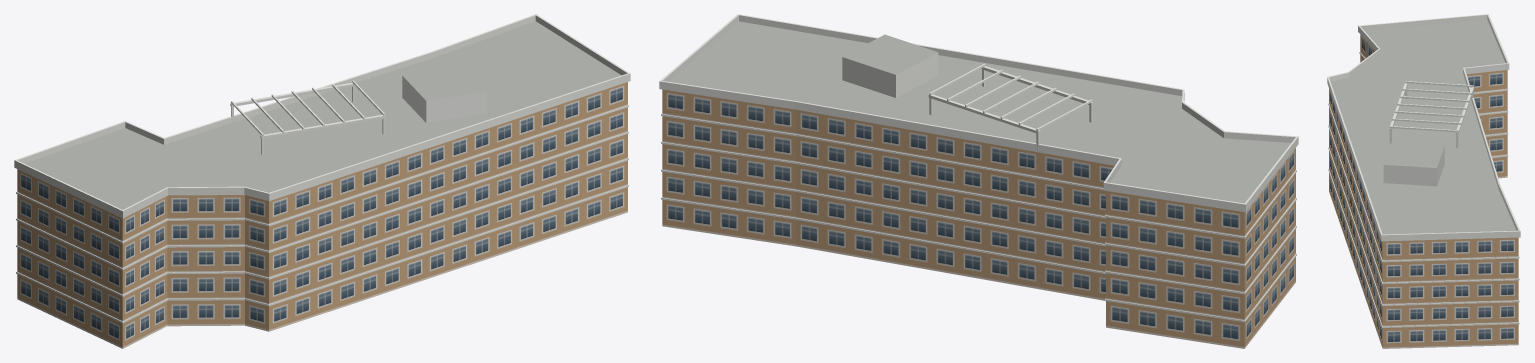
Rendered from nanqi_binguan.glb.
The picture shows the model from 3 angles, left to right: view 1: azimuth 30°, elevation 25°; view 2: azimuth 150°, elevation 25°; view 3: azimuth 270°, elevation 25°; orthographic projection. The views are drawn at different scales.
Visible parts, largest first — view 1: 南气宾馆; view 2: 南气宾馆; view 3: 南气宾馆.
Boxes of the visible parts, box(x1,y1,x2,y2) form: 南气宾馆: box(14, 14, 630, 348); 南气宾馆: box(659, 14, 1298, 348); 南气宾馆: box(1327, 14, 1520, 348).
Size of the model in its own units: 77.97 by 21 by 28.81.
3 materials, 1 textured.
